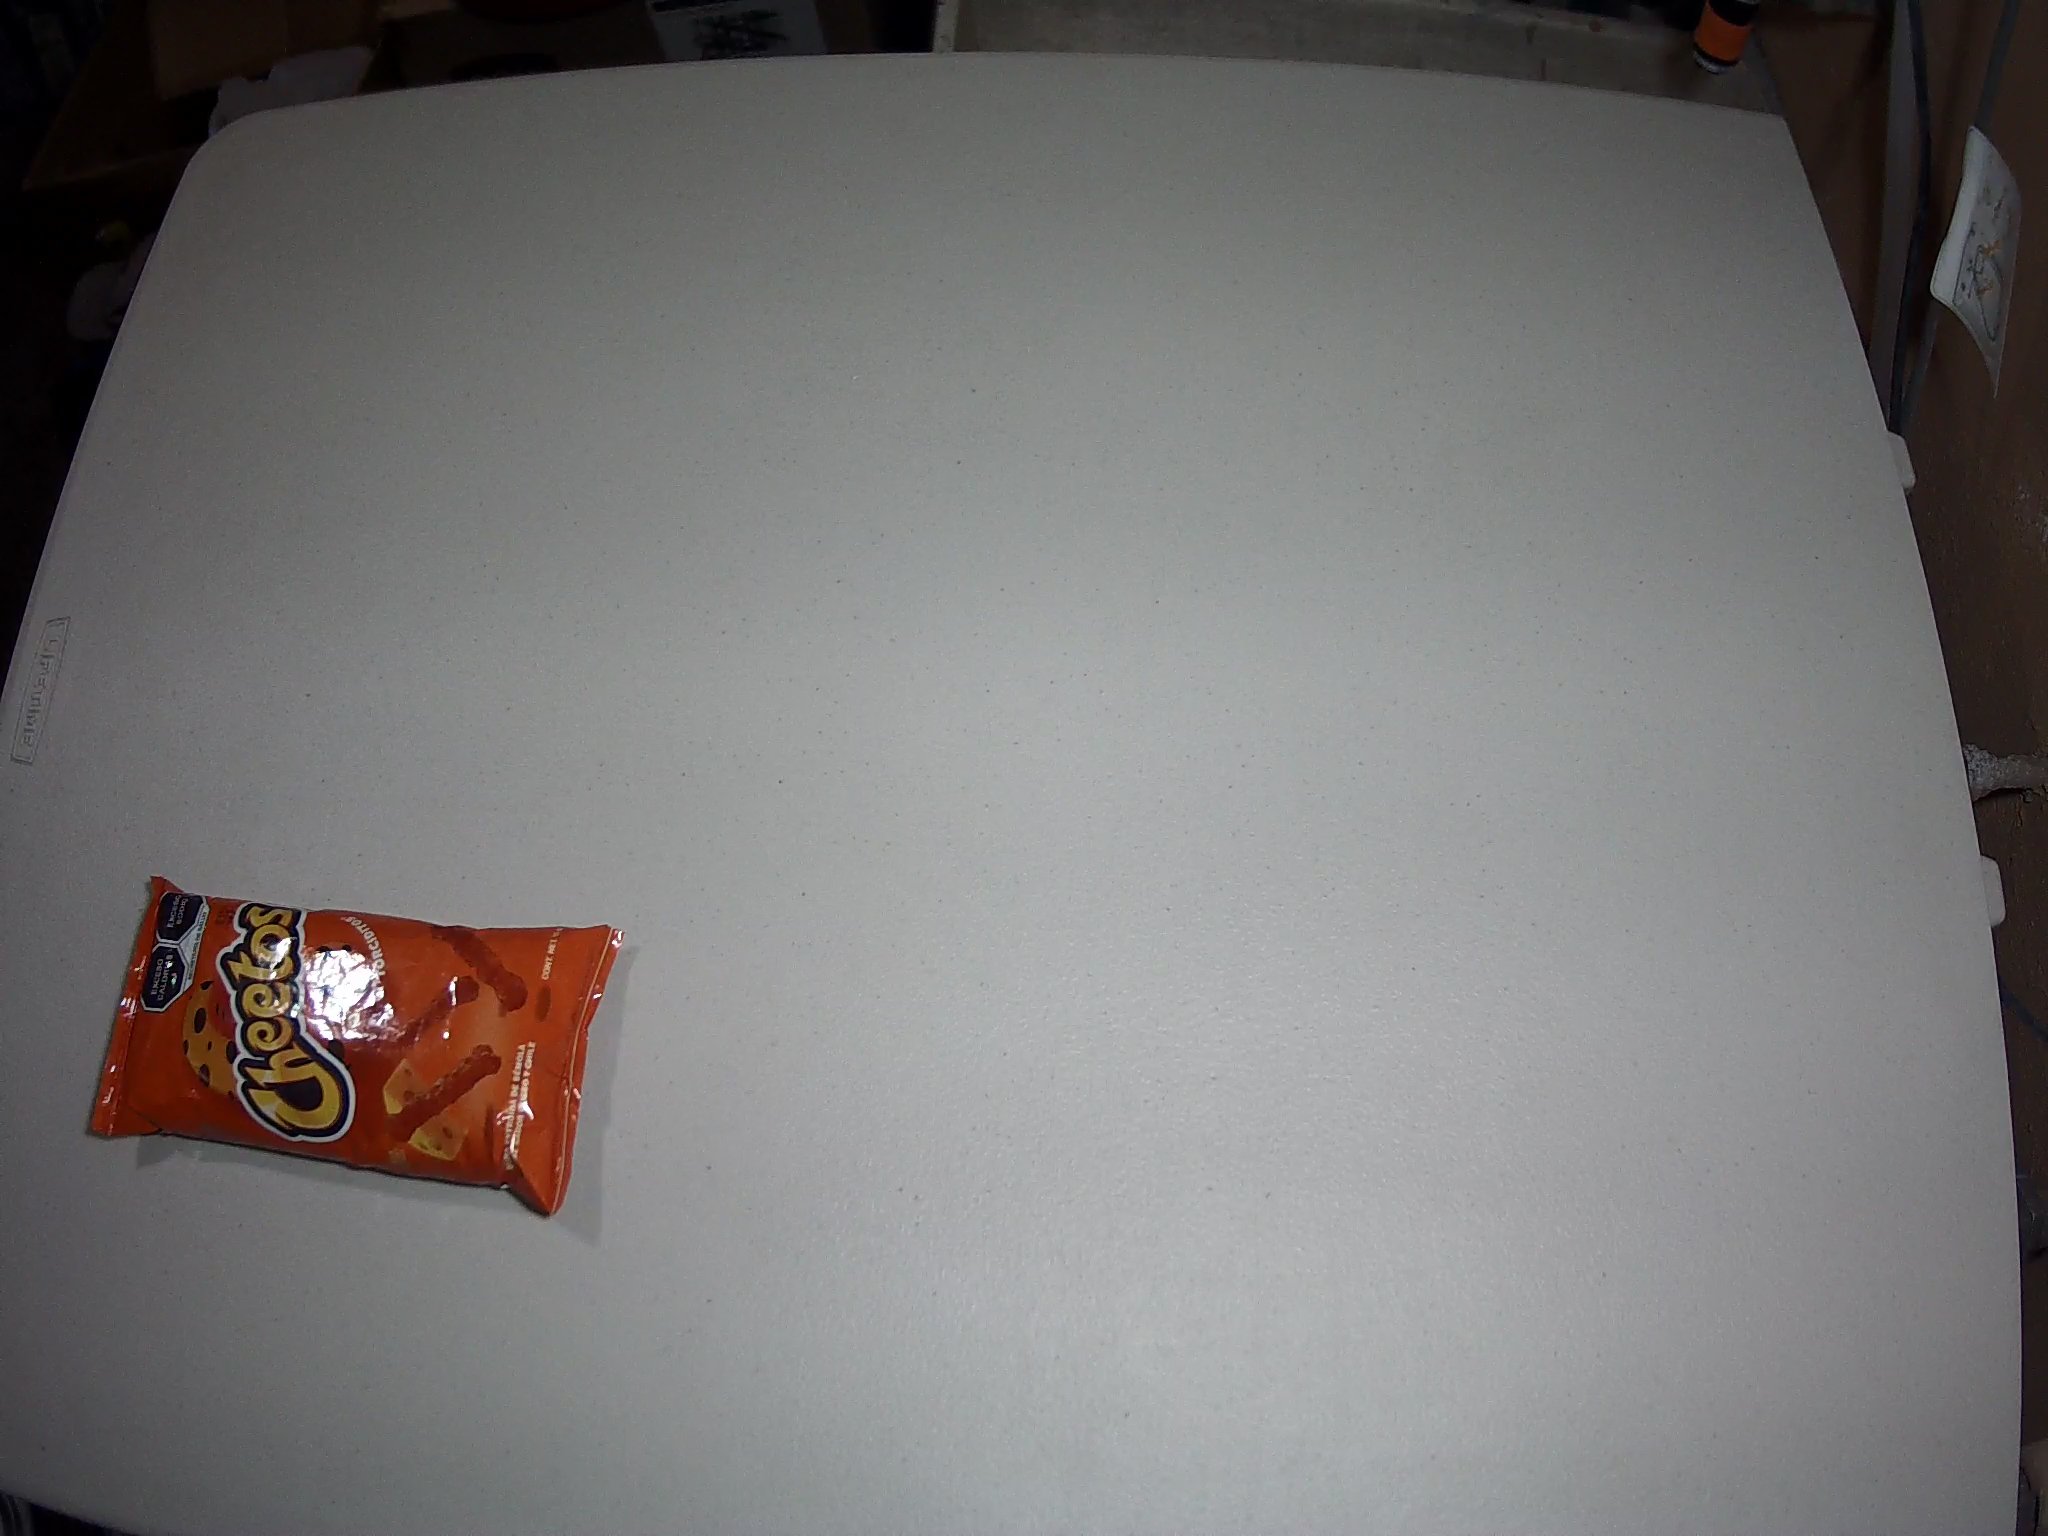CheetosTorciditos_55_F: (82, 878, 624, 1220)
